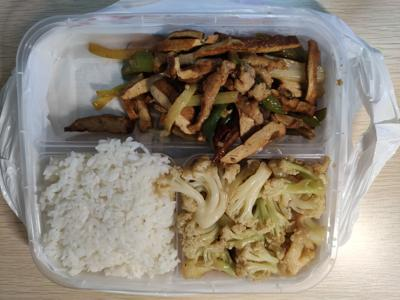cch: (174, 150, 332, 283)
rice: (37, 150, 177, 272)
